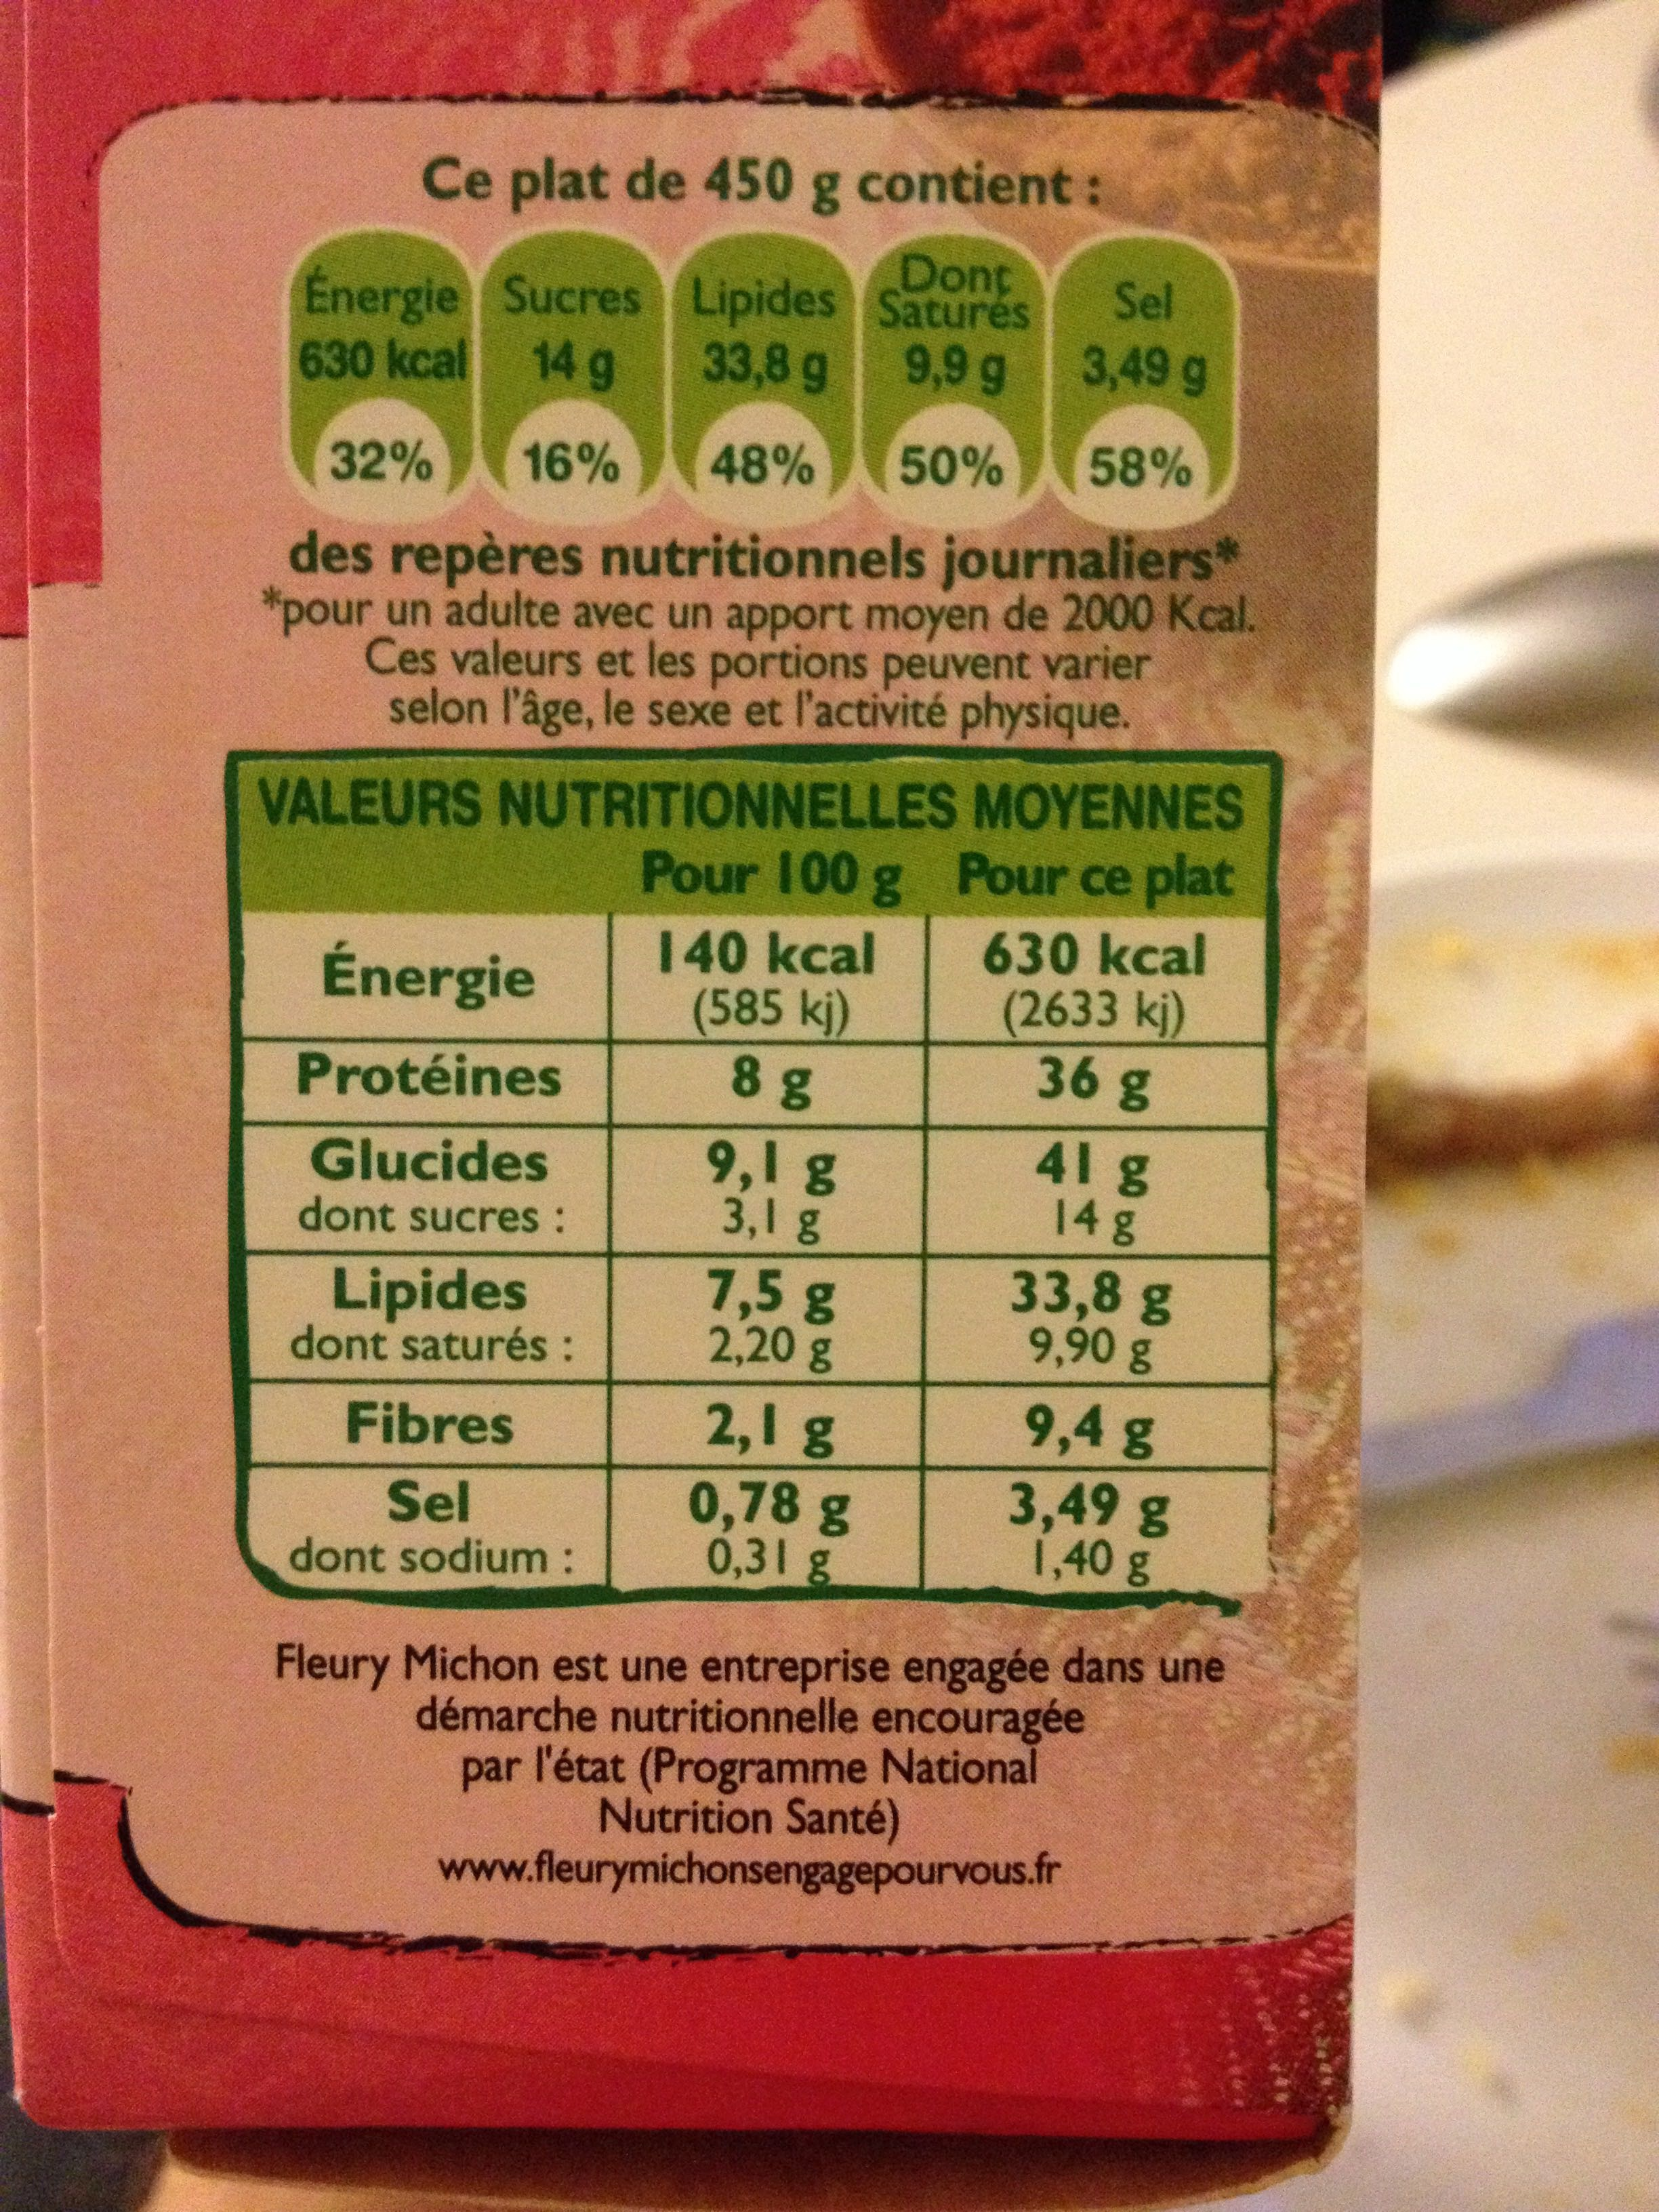column: (289, 914, 573, 1588), (983, 918, 1211, 1592), (655, 911, 878, 1595)
table: (218, 742, 1281, 1620)
